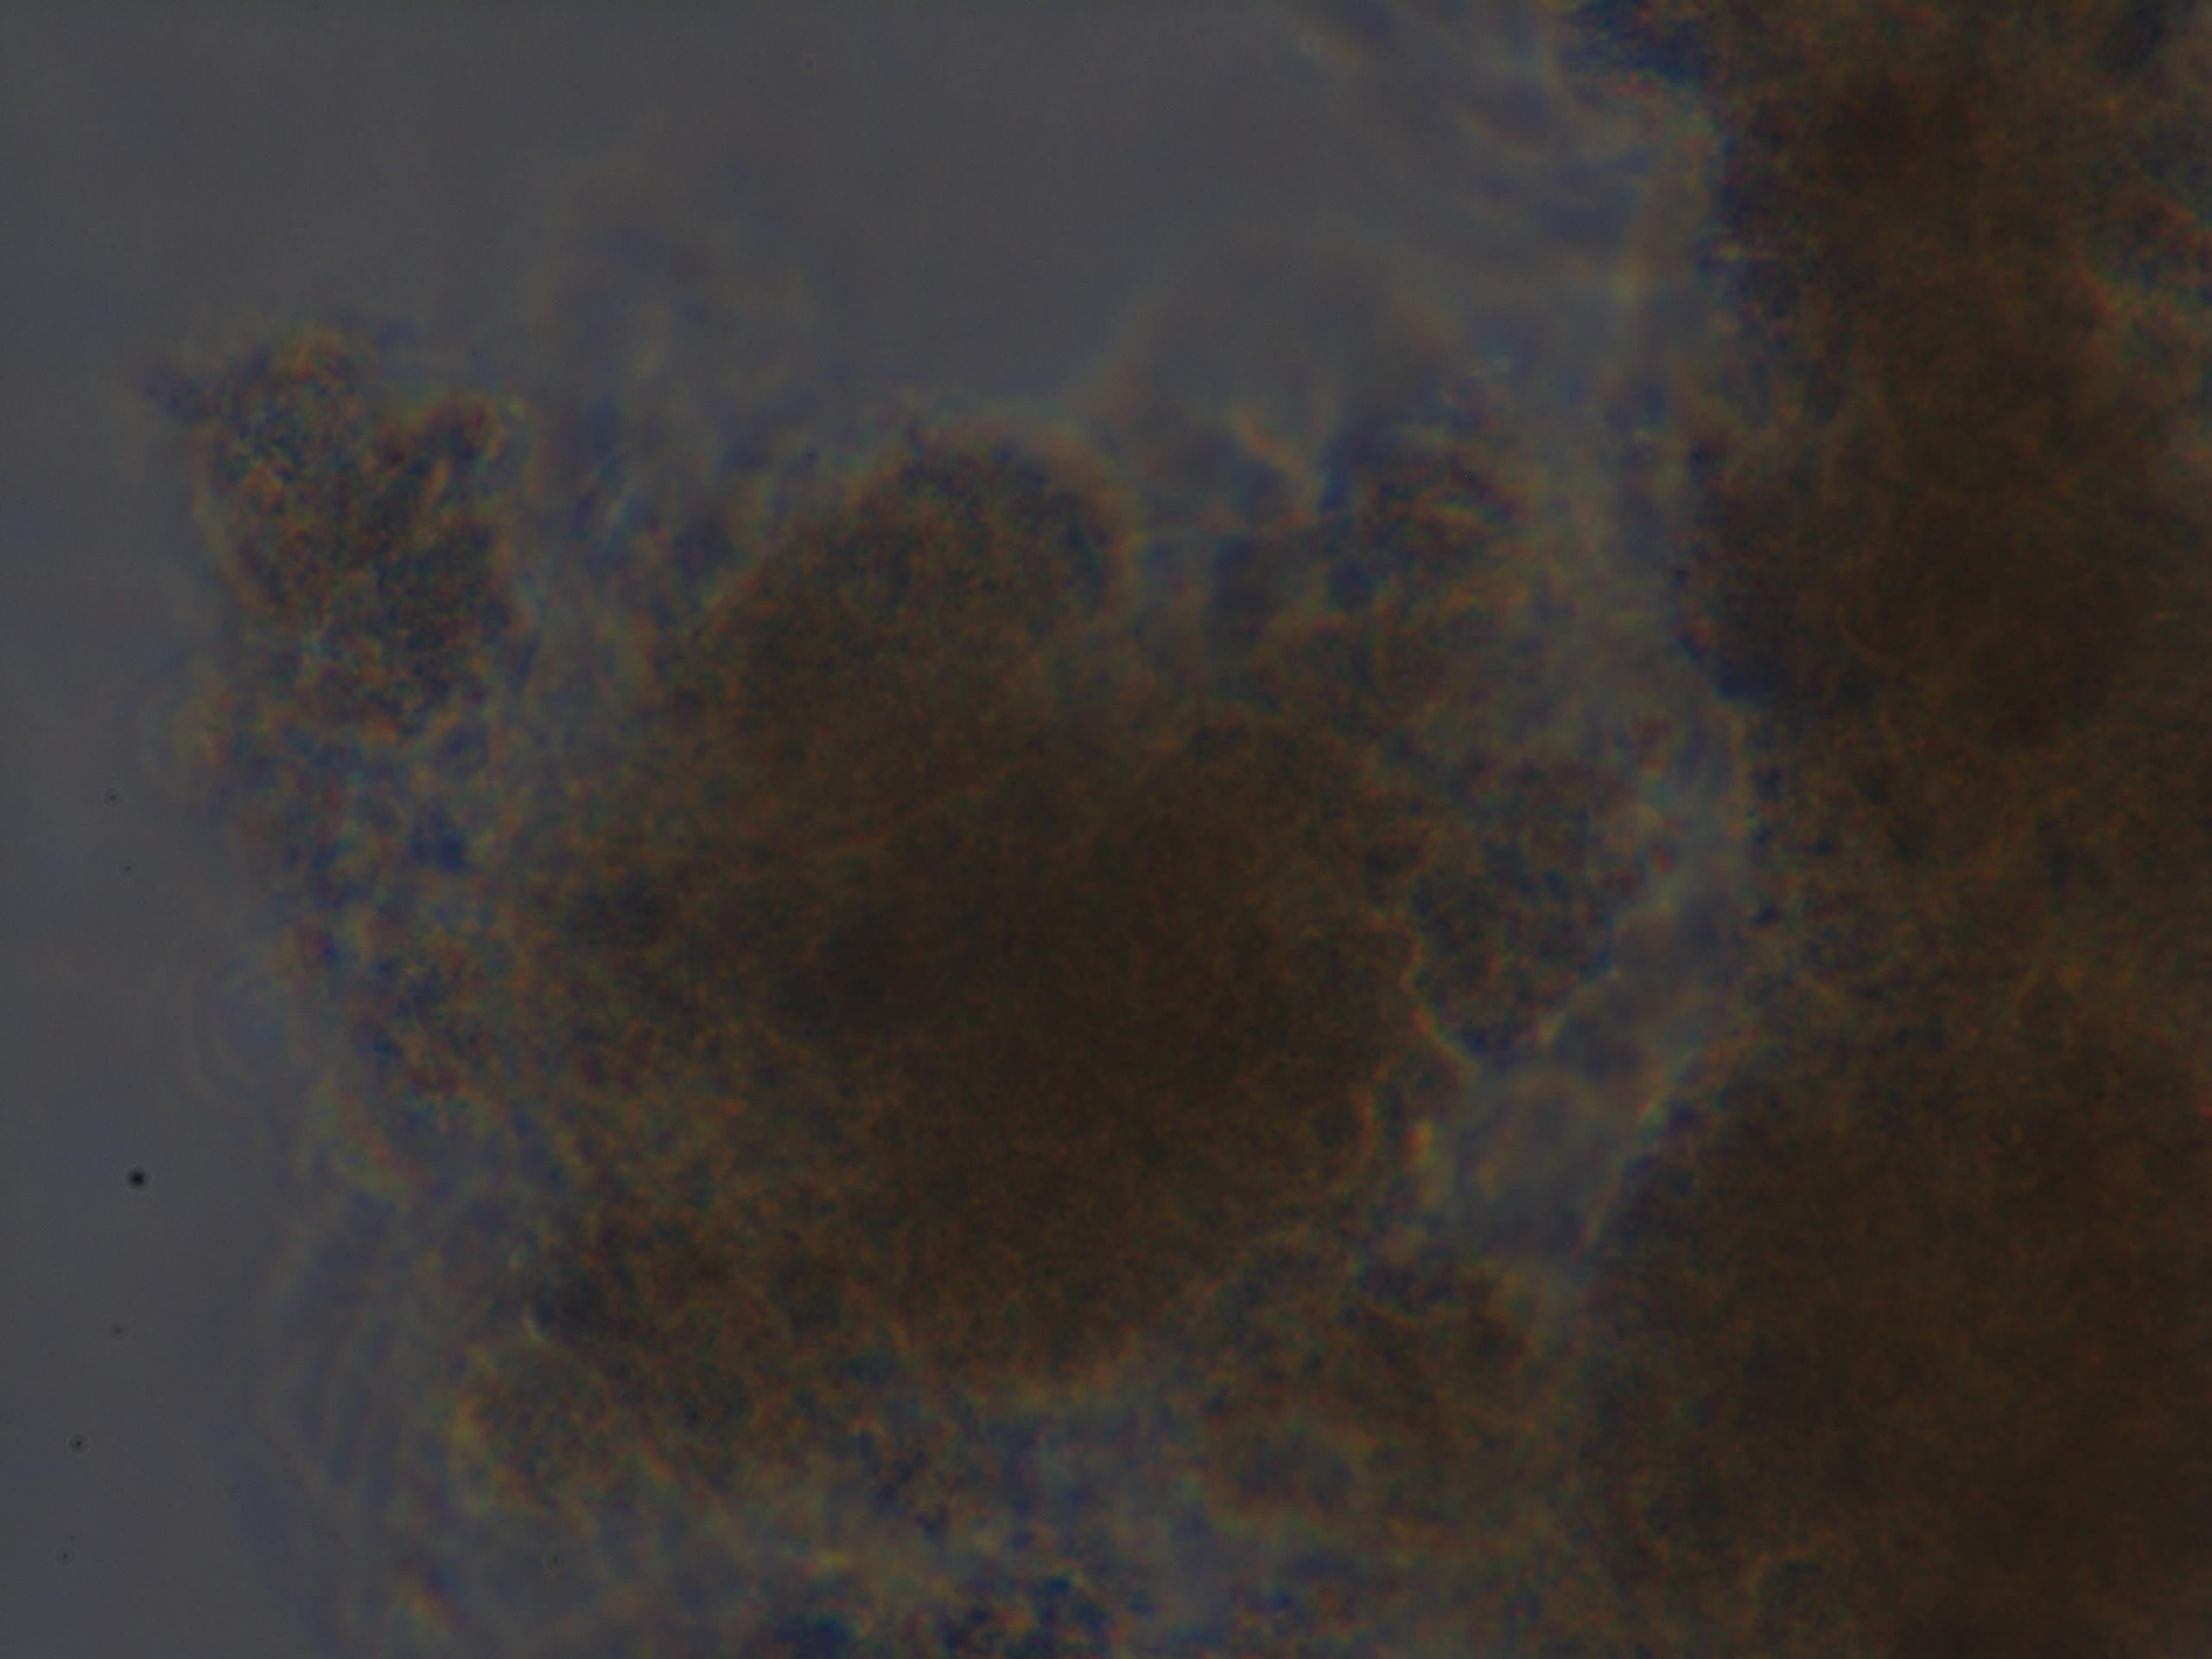spherical_floc: (488, 394, 1548, 1520)
